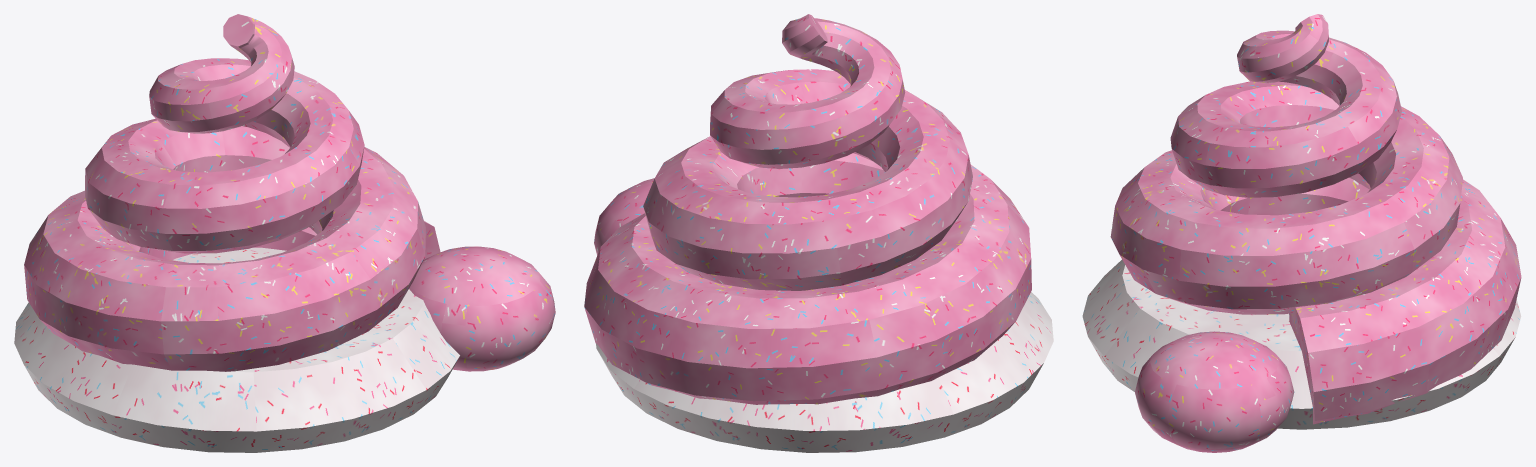
File: GIN_MeringueSwirl.fbx
3 renders of one model, left to right at view 1: azimuth 30°, elevation 25°; view 2: azimuth 150°, elevation 25°; view 3: azimuth 270°, elevation 25°, orthographic. The views are drawn at different scales.
Parts seen in each view (by area): view 1: GIN_MeringueSwirl; view 2: GIN_MeringueSwirl; view 3: GIN_MeringueSwirl.
Boxes of the visible parts, x1=… form: GIN_MeringueSwirl: x1=14, y1=14, x2=555, y2=452; GIN_MeringueSwirl: x1=584, y1=14, x2=1053, y2=452; GIN_MeringueSwirl: x1=1082, y1=14, x2=1521, y2=452.
Bounding box in the file's own units: 2.05 × 1.52 × 1.76.
